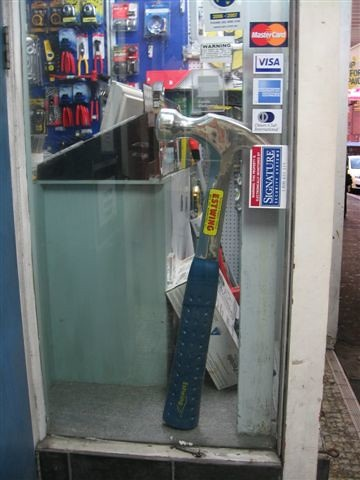hammer: (144, 100, 269, 432)
